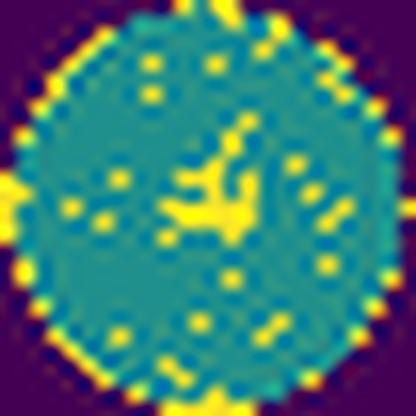Center: (157, 148, 260, 257)
